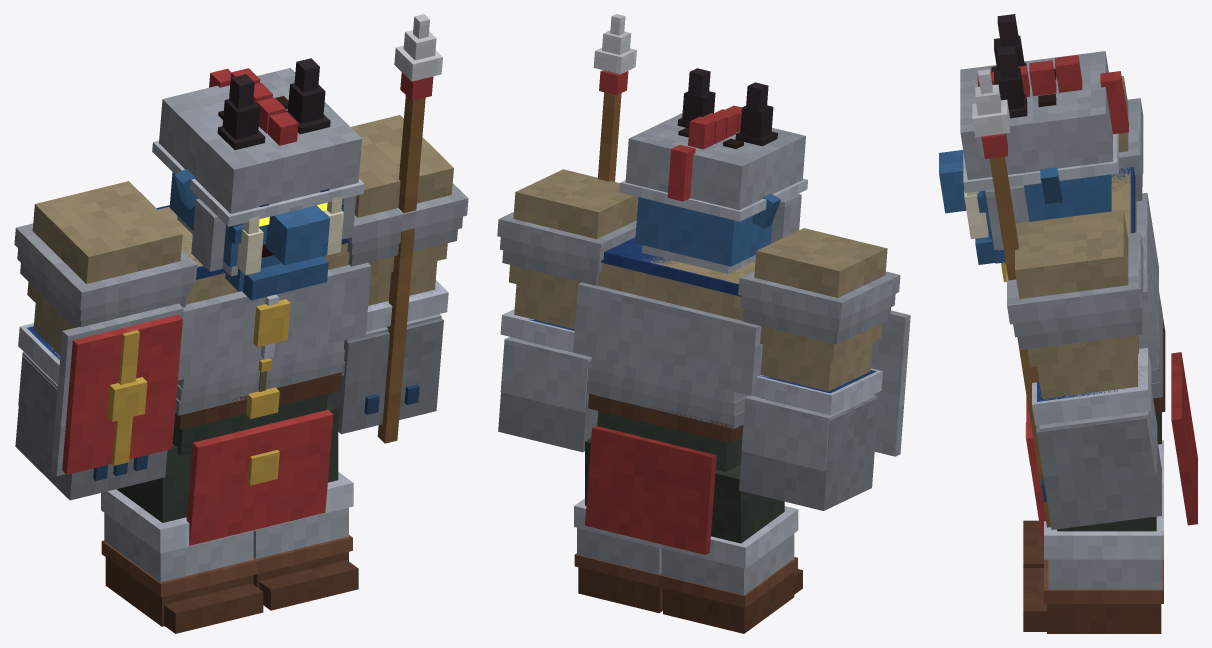
Rendered from ogre_garde_v3.glb.
3 renders of one model, left to right at view 1: azimuth 30°, elevation 25°; view 2: azimuth 150°, elevation 25°; view 3: azimuth 270°, elevation 25°, orthographic. The views are drawn at different scales.
Parts seen in each view (by area): view 1: ArmR, Torso, Head, ArmL, LegR, LegL, HandL; view 2: Torso, ArmR, Head, ArmL, LegR, LegL, HandL; view 3: ArmL, Head, LegL, Torso, HandL, ArmR, LegR.
Part boxes in pixels (<box>): ArmR: <box>14,181,197,500</box>; Torso: <box>156,205,371,545</box>; Head: <box>152,58,364,300</box>; ArmL: <box>327,115,468,434</box>; LegR: <box>101,444,263,633</box>; LegL: <box>253,401,358,610</box>; HandL: <box>377,14,442,443</box>; Torso: <box>573,237,766,554</box>; ArmR: <box>738,228,910,510</box>; Head: <box>619,68,807,273</box>; ArmL: <box>497,169,638,452</box>; LegR: <box>659,465,802,633</box>; LegL: <box>574,437,662,613</box>; HandL: <box>593,14,636,181</box>; ArmL: <box>1007,210,1161,529</box>; Head: <box>939,14,1128,264</box>; LegL: <box>1023,487,1163,633</box>; Torso: <box>1006,166,1197,543</box>; HandL: <box>972,69,1050,527</box>; ArmR: <box>1001,76,1143,281</box>; LegR: <box>1023,440,1163,567</box>.
Size of the model in its own units: 1.59 by 2.19 by 0.883.
42 materials, 42 textured.
